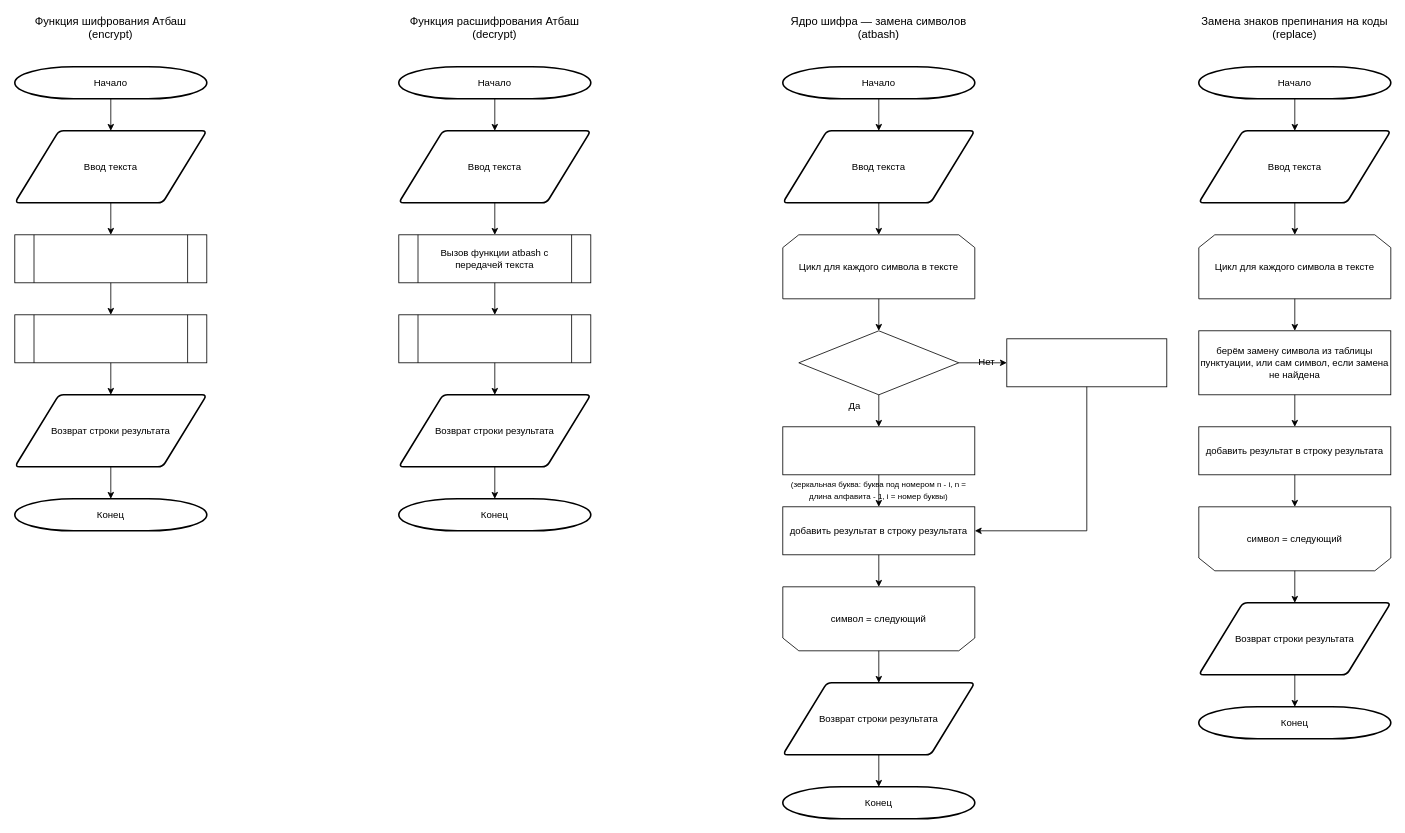
The diagram is 1405 pixels wide and 833 high, and some of its shapes have lost their labels. The centre of each missing label's shape, as x and y in pixels:
Вызов функции atbash с передачей результата: the point at 110,338
Вызов функции replace с передачей текста: the point at 110,258
Вызов функции restore с передачей результата: the point at 494,338
результат = зеркальная буква из алфавита с учётом регистра: the point at 878,450
результат = символ без изменений: the point at 1086,362
символ — буква русского алфавита?: the point at 878,362
